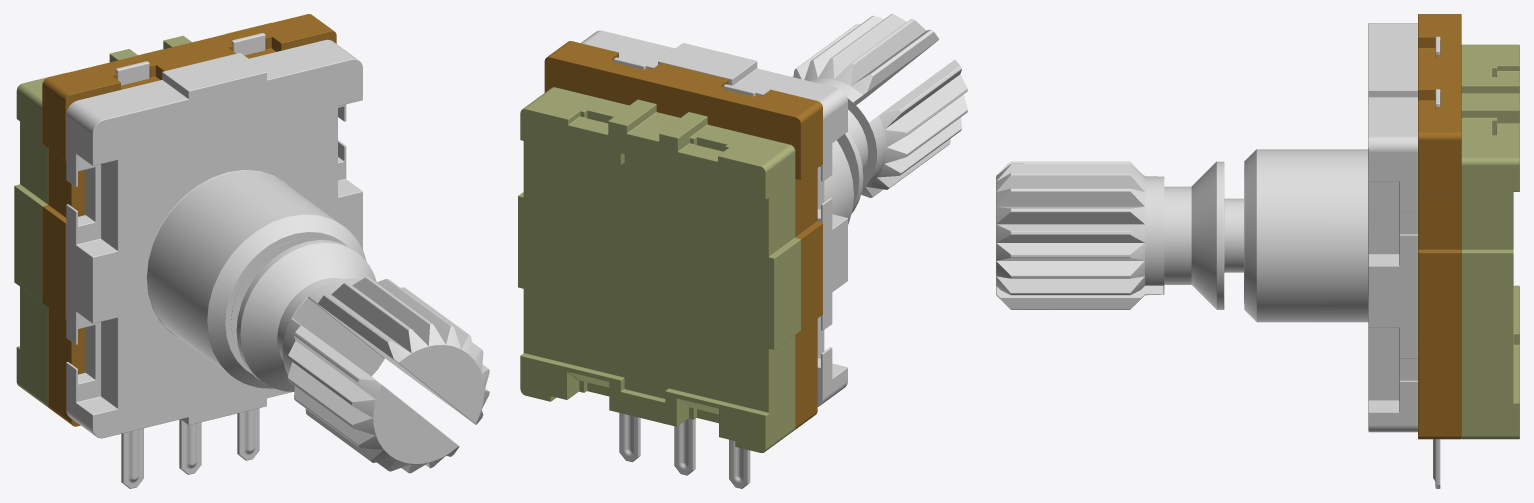
File: Potenciometro.fbx
3 renders of one model, left to right at view 1: azimuth 30°, elevation 25°; view 2: azimuth 150°, elevation 25°; view 3: azimuth 270°, elevation 25°, orthographic. The views are drawn at different scales.
Parts seen in each view (by area): view 1: Rotary Encoder with Switch, Model EN11-VSB (TT Electronics); view 2: Rotary Encoder with Switch, Model EN11-VSB (TT Electronics); view 3: Rotary Encoder with Switch, Model EN11-VSB (TT Electronics).
Boxes of the visible parts, x1=… form: Rotary Encoder with Switch, Model EN11-VSB (TT Electronics): x1=14, y1=14, x2=489, y2=488; Rotary Encoder with Switch, Model EN11-VSB (TT Electronics): x1=518, y1=14, x2=967, y2=488; Rotary Encoder with Switch, Model EN11-VSB (TT Electronics): x1=996, y1=14, x2=1519, y2=488.
Size of the model in its own units: 1.17 by 1.74 by 2.11.
